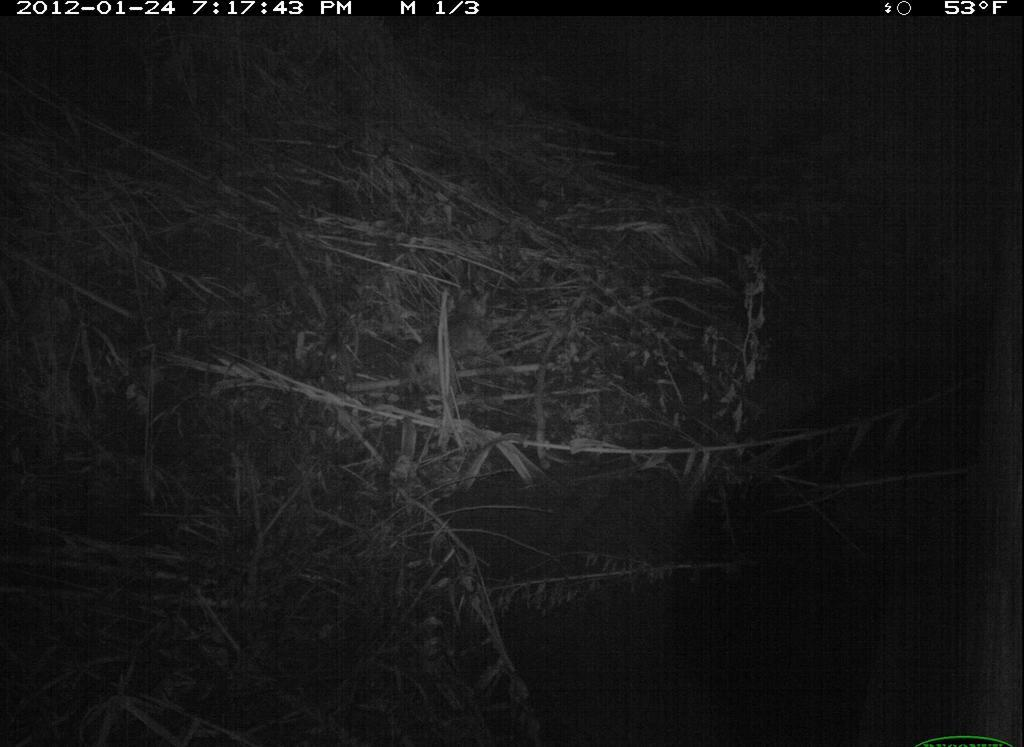bobcat: (385, 276, 511, 436)
